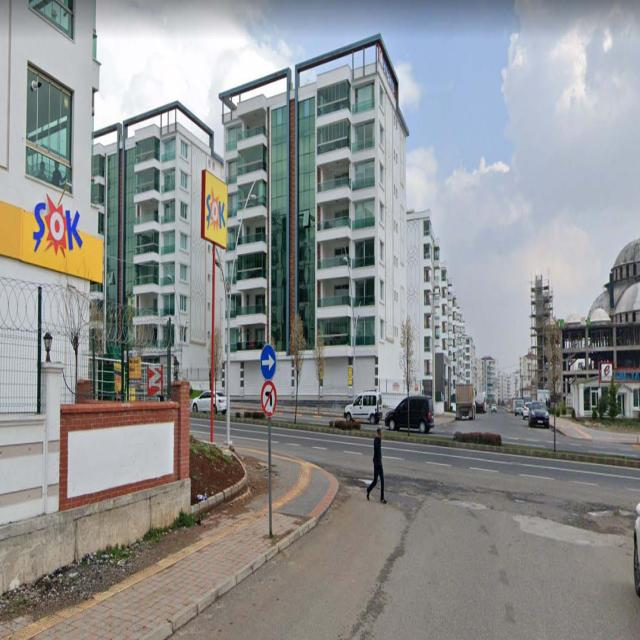soladonulmez: (261, 385, 278, 415)
